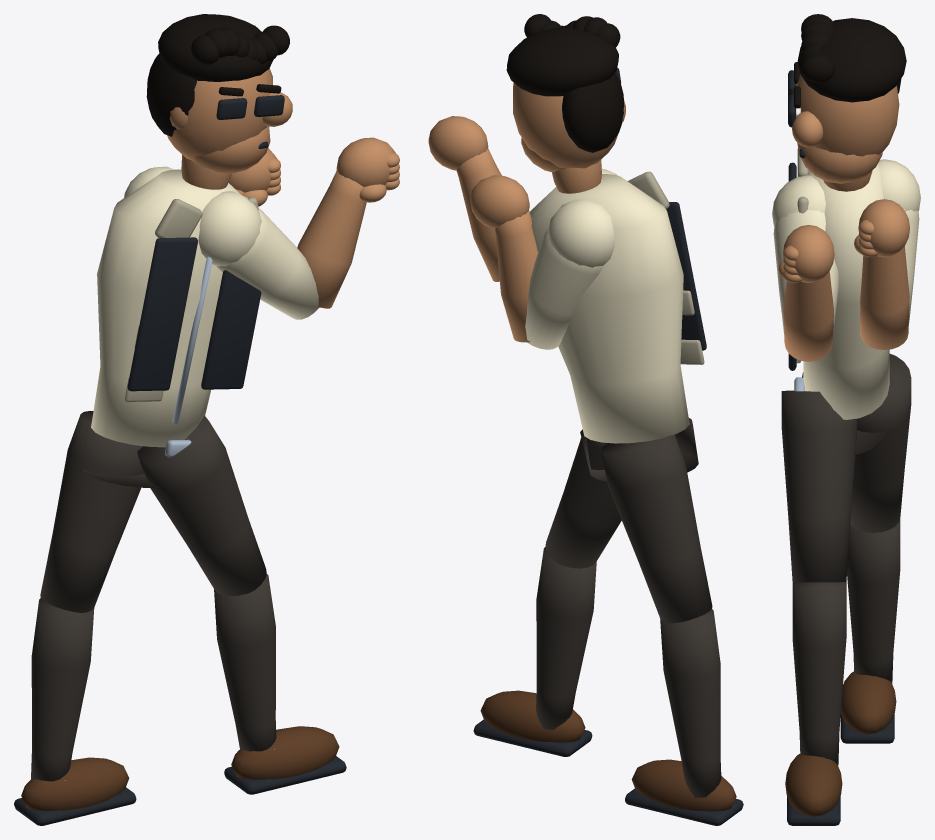
Rendered from emre.glb.
3 renders of one model, left to right at view 1: azimuth 30°, elevation 25°; view 2: azimuth 150°, elevation 25°; view 3: azimuth 270°, elevation 25°, orthographic. The views are drawn at different scales.
Parts seen in each view (by area): view 1: Fitted torso.008, Trouser thigh.017, Trouser thigh.016, Lower leg.017, Lower leg.016, Dark vest panel, Forearm.016, Upper arm.016, Dark vest panel.001, Head.008, Hair crown.007, Boot.016 (+11 smaller); view 2: Fitted torso.008, Trouser thigh.017, Lower leg.017, Lower leg.016, Trouser thigh.016, Hair crown.007, Upper arm.017, Head.008, Forearm.017, Hair back.005, Rounded shoulder.017, Boot.016 (+10 smaller); view 3: Trouser thigh.016, Fitted torso.008, Lower leg.016, Lower leg.017, Trouser thigh.017, Hair crown.007, Head.008, Forearm.017, Forearm.016, Boot.016, Boot.017, Closed fist.017 (+14 smaller).
Boxes of the visible parts, <box> form: Fitted torso.008: <box>91,169,240,447</box>; Trouser thigh.017: <box>40,411,144,612</box>; Trouser thigh.016: <box>137,415,266,595</box>; Lower leg.017: <box>31,598,94,781</box>; Lower leg.016: <box>214,574,276,751</box>; Dark vest panel: <box>127,237,197,391</box>; Forearm.016: <box>297,171,366,308</box>; Upper arm.016: <box>217,208,319,319</box>; Dark vest panel.001: <box>201,270,261,389</box>; Head.008: <box>167,68,272,160</box>; Hair crown.007: <box>158,14,273,81</box>; Boot.016: <box>231,726,339,779</box>; Fitted torso.008: <box>530,174,689,443</box>; Trouser thigh.017: <box>600,434,712,623</box>; Lower leg.017: <box>660,609,721,797</box>; Lower leg.016: <box>536,547,596,729</box>; Trouser thigh.016: <box>545,437,621,568</box>; Hair crown.007: <box>506,27,618,96</box>; Upper arm.017: <box>525,227,603,349</box>; Head.008: <box>513,83,618,168</box>; Forearm.017: <box>494,210,537,342</box>; Hair back.005: <box>562,73,624,152</box>; Rounded shoulder.017: <box>547,199,615,267</box>; Boot.016: <box>480,690,585,742</box>; Trouser thigh.016: <box>781,390,857,582</box>; Fitted torso.008: <box>803,164,889,419</box>; Lower leg.016: <box>792,582,846,765</box>; Lower leg.017: <box>847,518,900,683</box>; Trouser thigh.017: <box>850,354,911,532</box>; Hair crown.007: <box>797,18,906,102</box>; Head.008: <box>796,74,899,156</box>; Forearm.017: <box>860,246,909,349</box>; Forearm.016: <box>783,271,833,361</box>; Boot.016: <box>785,754,842,816</box>; Boot.017: <box>841,671,896,734</box>; Closed fist.017: <box>858,199,909,257</box>.
Size of the model in its own units: 69.29 by 149 by 26.22.
